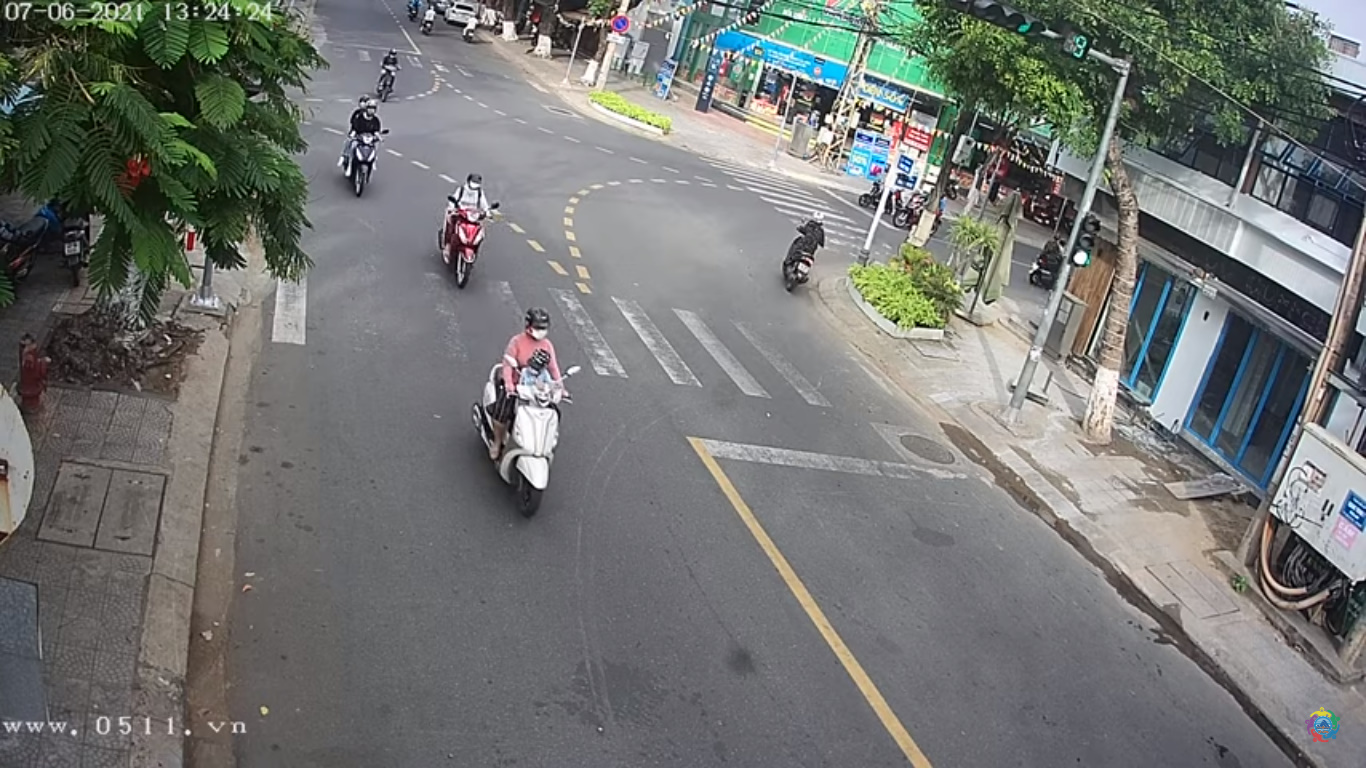motorbike: (476, 308, 573, 520), (439, 160, 501, 288), (343, 89, 389, 202)
